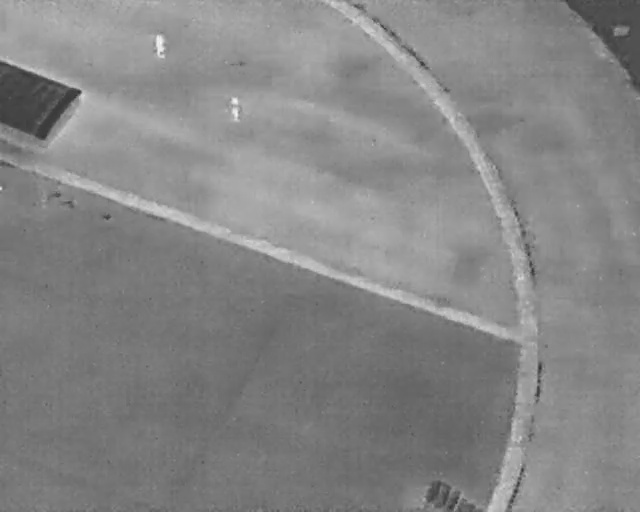Person: (153, 31, 167, 58), (228, 95, 243, 119)
